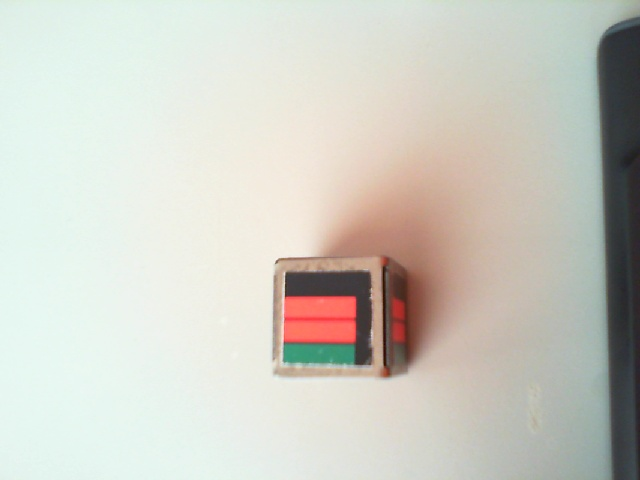square: (284, 271, 371, 365)
